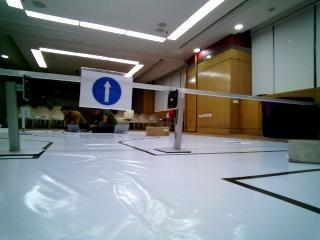straight: (81, 67, 136, 111)
